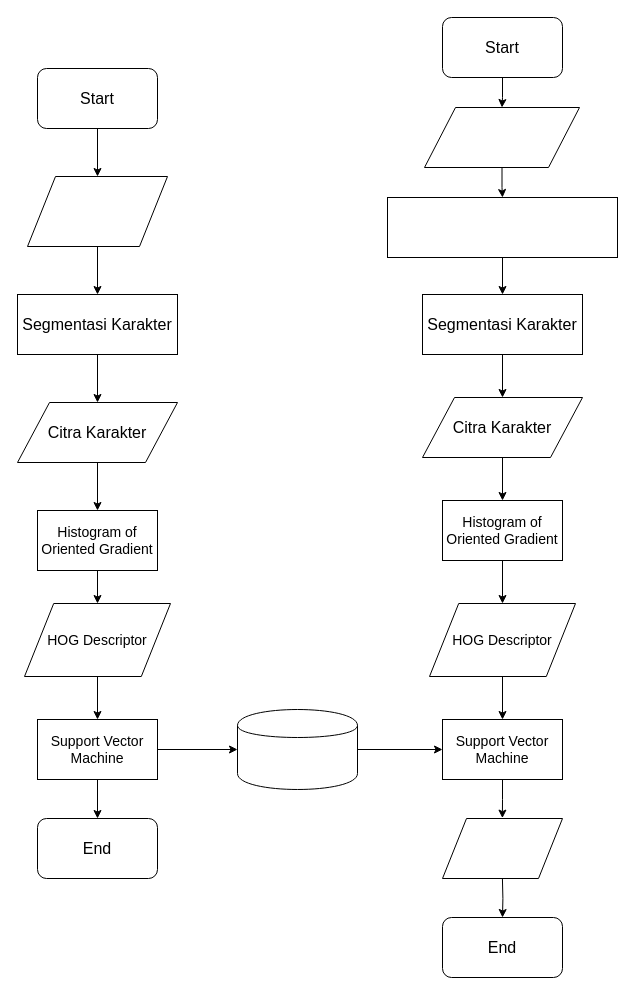
Image size: 635x995. Some labels were removed from this diagram. Each missing label, with the box of its shape:
Deteksi plat: (386, 196, 618, 258)
Input Citra Mobil: (424, 106, 580, 168)
Input Citra Plat: (26, 176, 168, 246)
Plat Nomor: (442, 818, 562, 878)
SVM Model: (236, 708, 358, 790)
